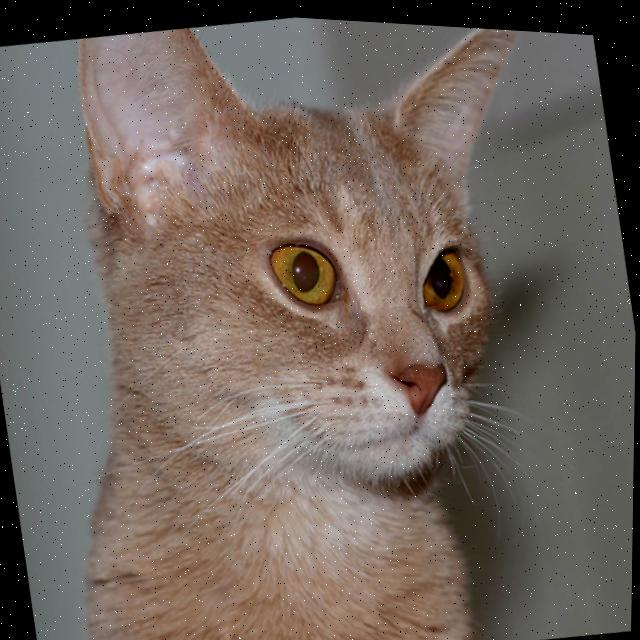Abyssinian: (0, 0, 620, 640)
